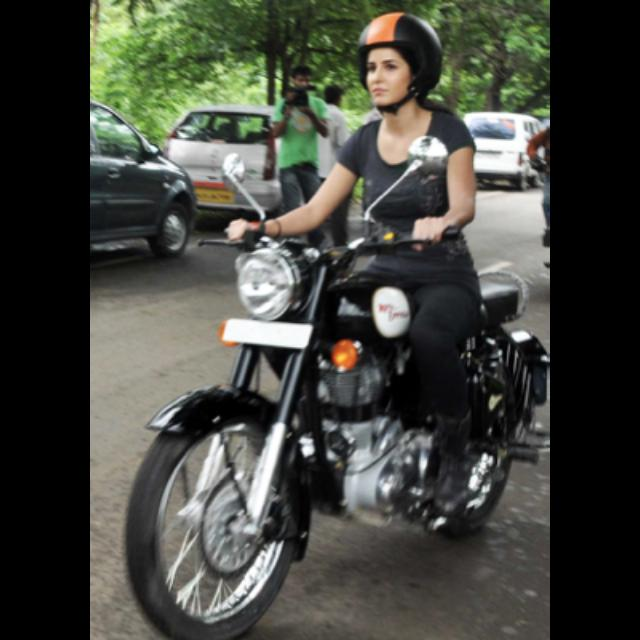With Helmet: (353, 10, 447, 110)
